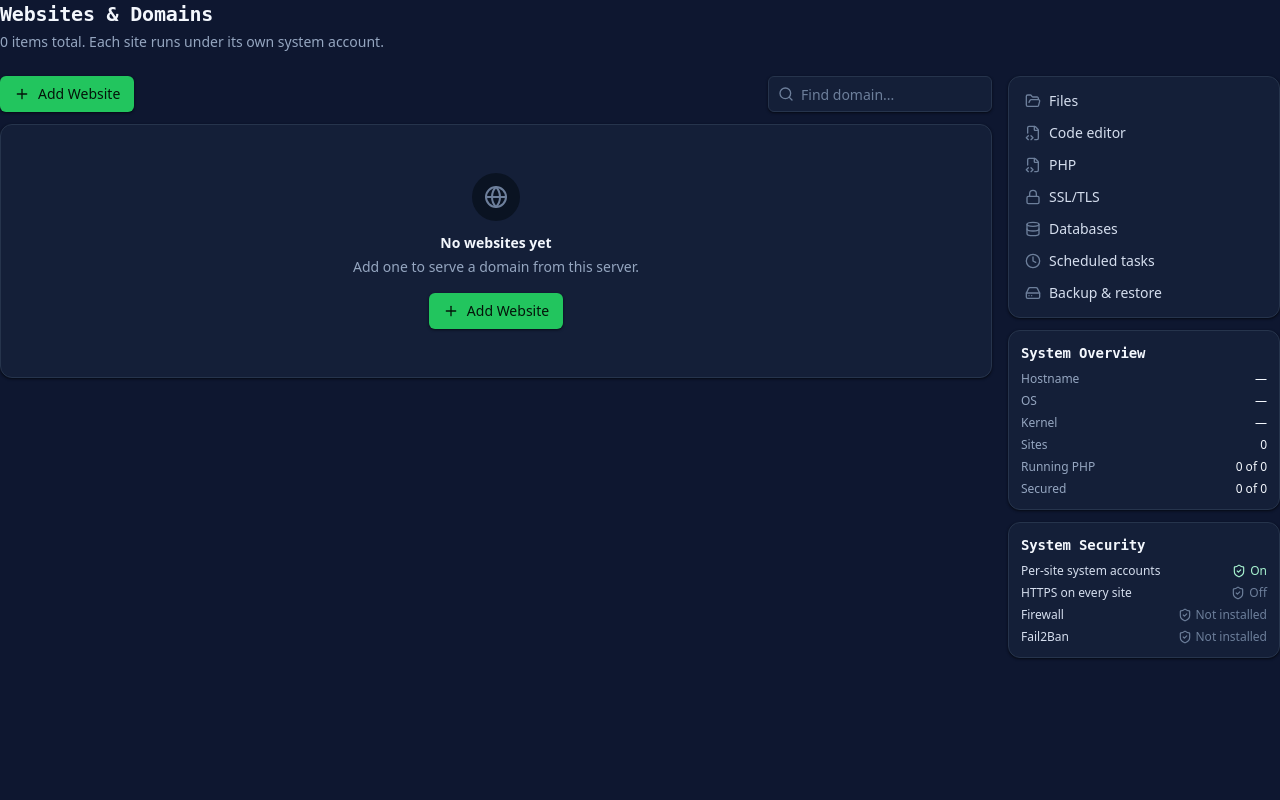
Test: WebsitesPage › surfaces the server message when a domain is already in use
Click the 1st button "Add Website": (67, 94) [0, 76, 134, 112]
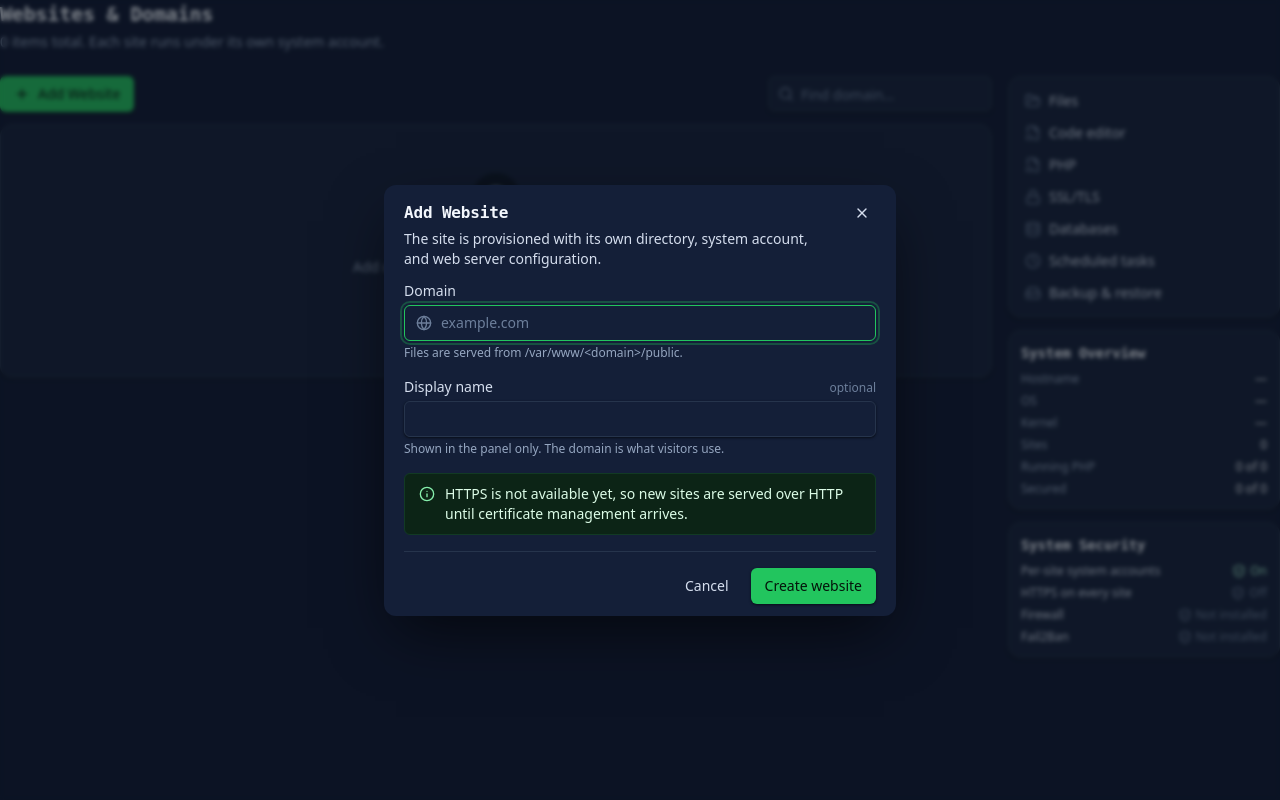
In the field labelled "Domain": (640, 322) [404, 304, 876, 340], type "example.test"
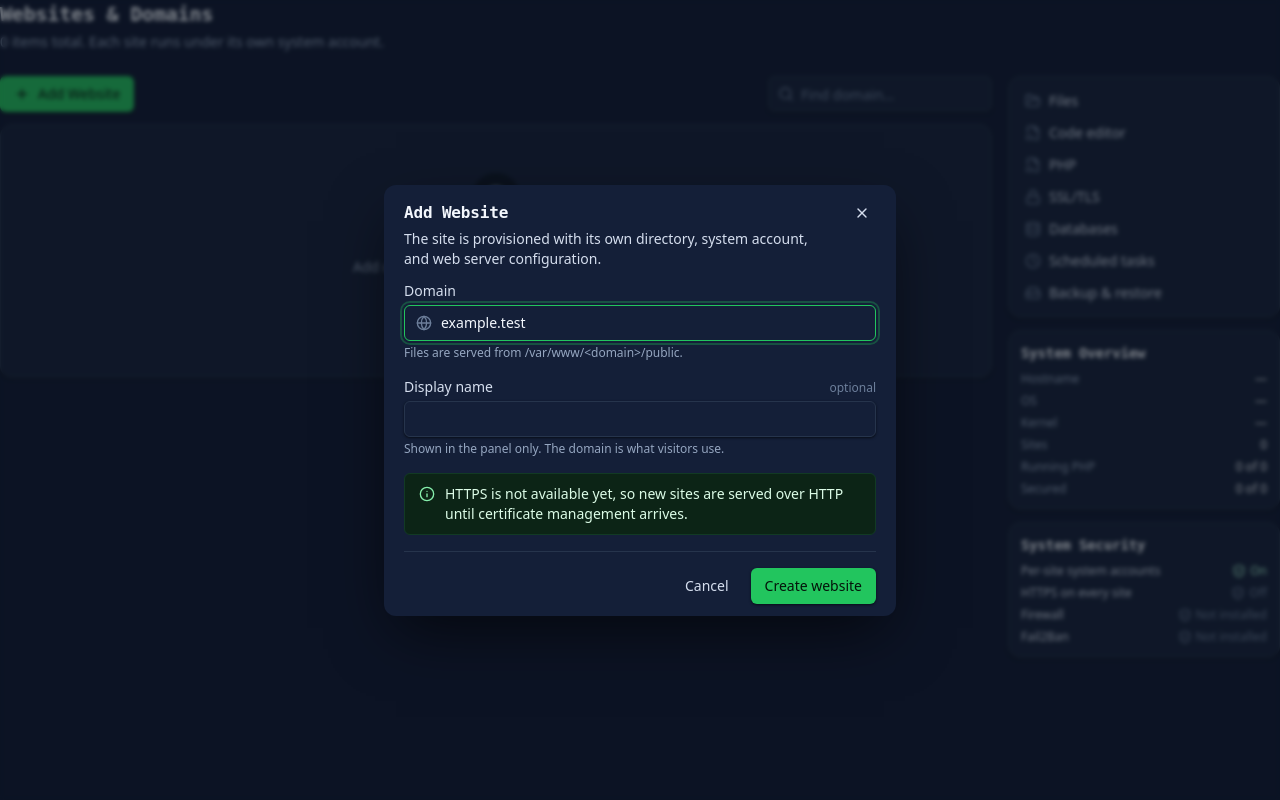
Click the button "Create website": (813, 586) [750, 568, 876, 604]
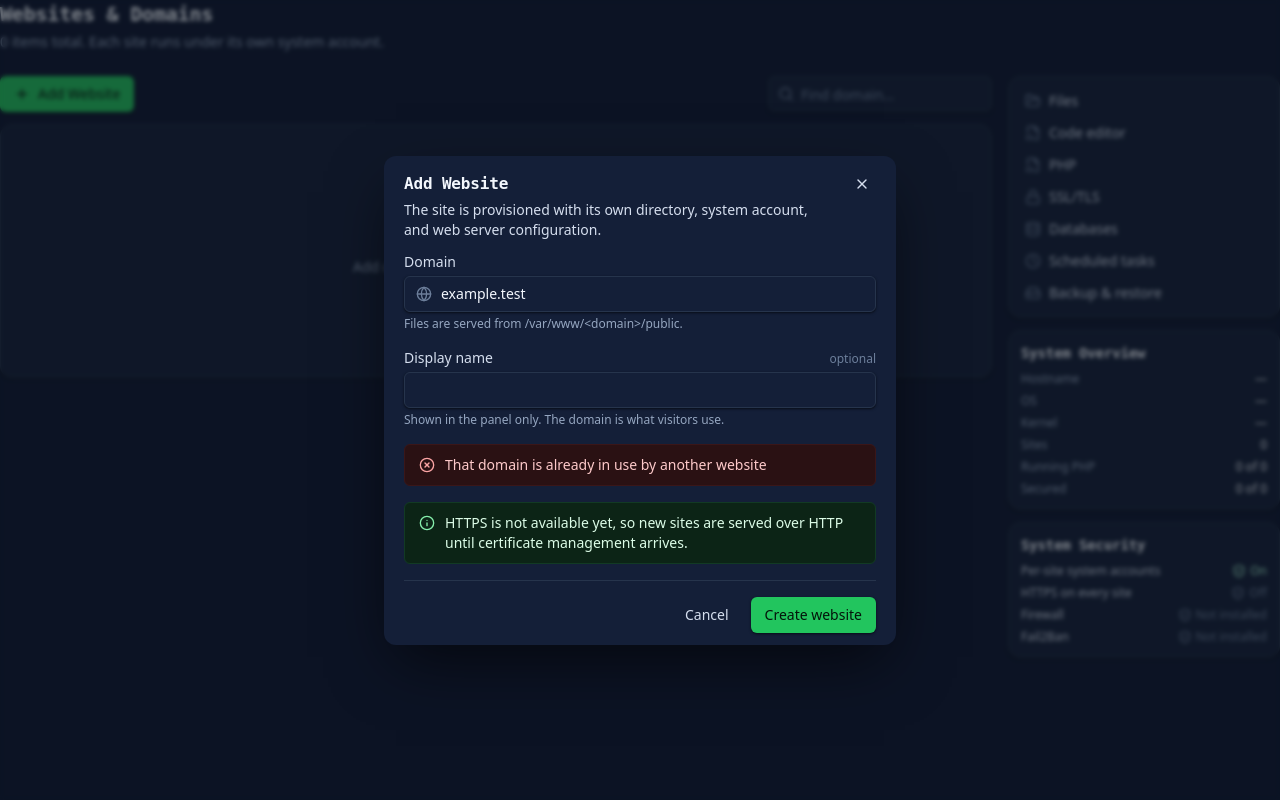
Expected: the text "That domain is already in use by another website" is shown, [445, 454, 767, 474]
